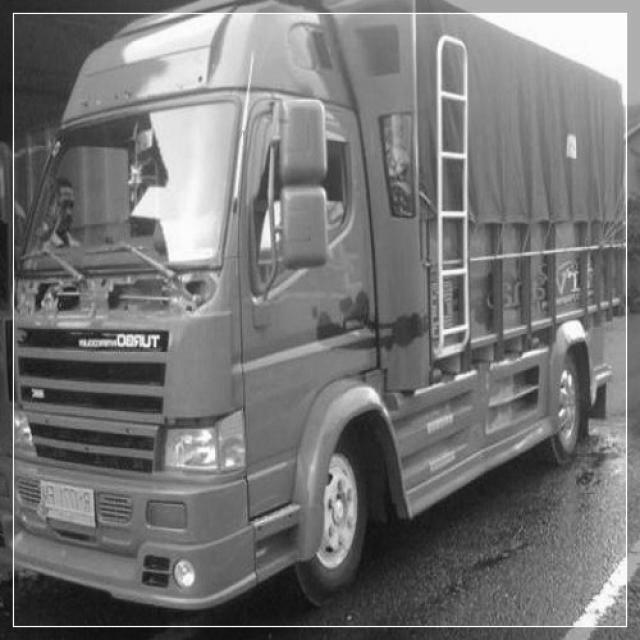truck: (2, 1, 409, 613)
